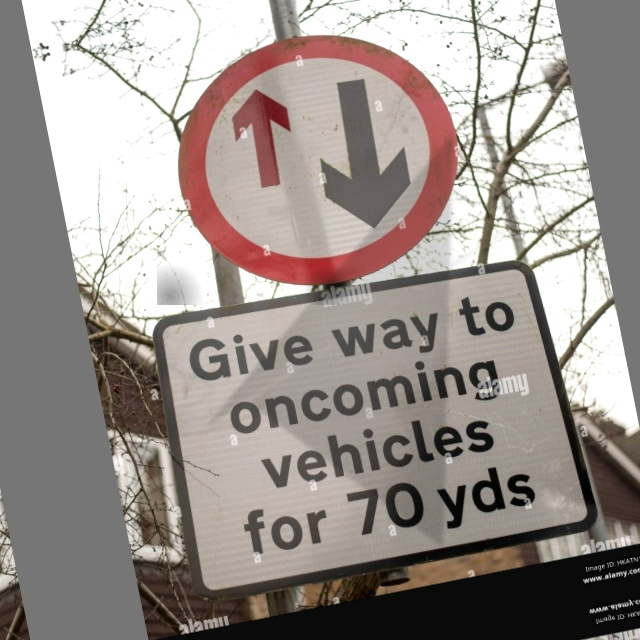Priority_for_Oncoming_Traffic: (157, 9, 481, 305)
